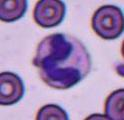N: (35, 33, 90, 88)
